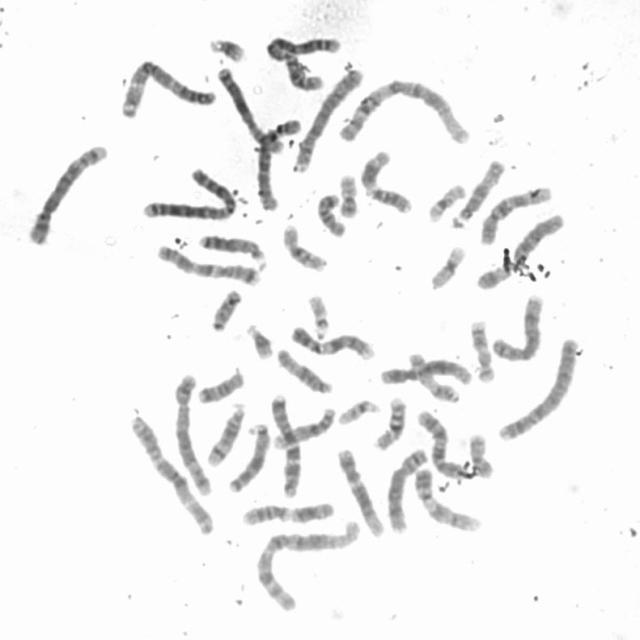A1: (250, 516, 364, 614), (335, 73, 474, 146)
A2: (137, 162, 240, 222), (262, 29, 346, 91)
A3: (124, 410, 217, 536), (115, 53, 218, 120)
B4: (493, 331, 582, 443), (289, 61, 366, 173)
B5: (23, 137, 111, 247), (169, 367, 216, 498)
C10: (476, 179, 556, 246), (413, 404, 470, 480)
C11: (356, 144, 416, 215), (237, 495, 337, 528)
C12: (332, 441, 388, 539), (378, 354, 477, 386)
C6: (473, 207, 568, 291), (252, 111, 306, 213)
C7: (152, 238, 264, 287), (264, 387, 304, 499)
C8: (486, 287, 548, 363), (382, 442, 431, 535)
C9: (408, 463, 486, 534), (286, 319, 378, 362)
D13: (222, 417, 272, 494), (196, 228, 270, 270)
D14: (269, 401, 338, 451), (202, 397, 249, 468)
D15: (447, 153, 508, 229), (272, 342, 336, 395)
E16: (278, 218, 331, 273), (369, 389, 409, 452)
E17: (404, 347, 463, 404), (466, 314, 498, 384)
E18: (194, 364, 248, 405), (312, 187, 350, 238)
F19: (425, 238, 469, 292), (423, 178, 469, 223)
F20: (464, 426, 497, 479), (334, 167, 362, 219)
G21: (241, 317, 278, 361), (204, 30, 248, 64)
G22: (334, 393, 384, 426), (303, 287, 333, 340)
X: (213, 60, 287, 156)
